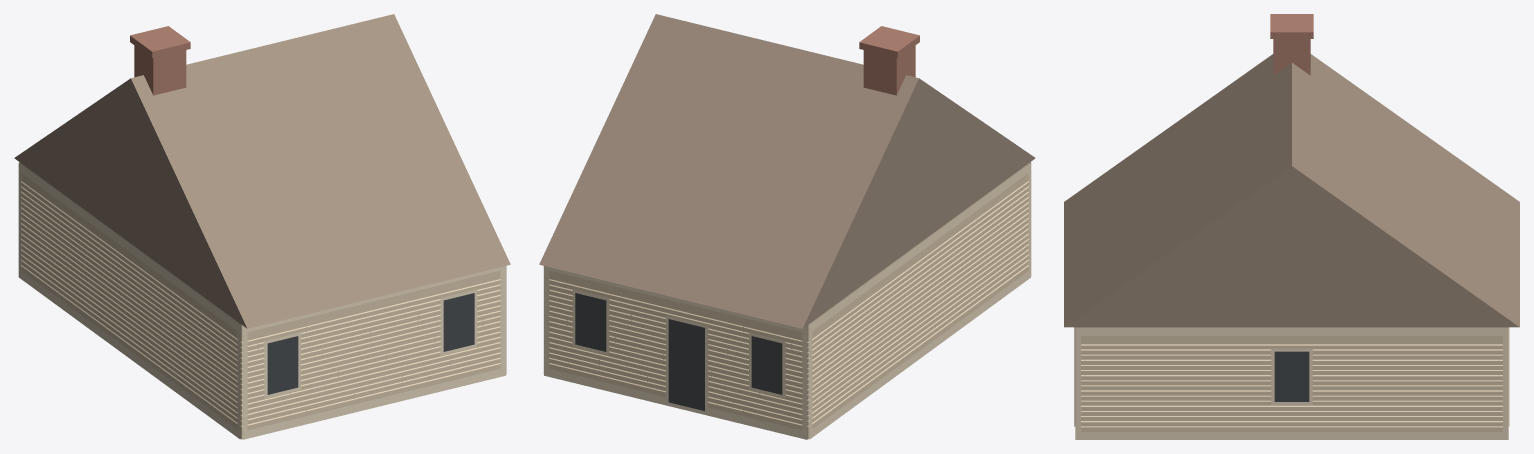
The model's file is recon_1835_south_d5_004__inferred_1835.glb.
The picture shows the model from 3 angles, left to right: view 1: azimuth 30°, elevation 25°; view 2: azimuth 150°, elevation 25°; view 3: azimuth 270°, elevation 25°; orthographic projection. The views are drawn at different scales.
Parts seen in each view (by area): view 1: recon_1835_south_d5_004__inferred_1835; view 2: recon_1835_south_d5_004__inferred_1835; view 3: recon_1835_south_d5_004__inferred_1835.
Part boxes in pixels (left/top/right/bottom): recon_1835_south_d5_004__inferred_1835: left=14, top=14, right=510, bottom=439; recon_1835_south_d5_004__inferred_1835: left=539, top=14, right=1035, bottom=439; recon_1835_south_d5_004__inferred_1835: left=1064, top=14, right=1519, bottom=439.
Bounding box in the file's own units: 6.76 × 7.57 × 10.26.
